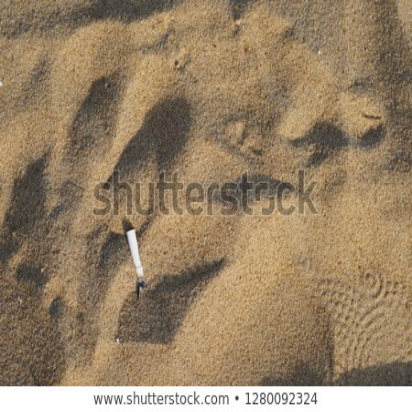cigarette: (124, 225, 153, 288)
